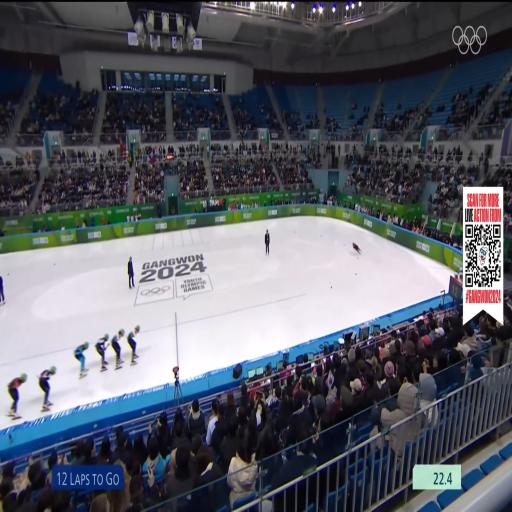Skater: (8, 374, 26, 419), (39, 366, 56, 411), (111, 329, 124, 369), (95, 334, 109, 371), (74, 342, 88, 378), (127, 326, 139, 365), (352, 242, 363, 257)
